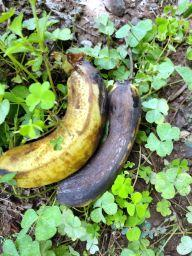banana: (0, 60, 112, 189), (55, 80, 143, 208)
